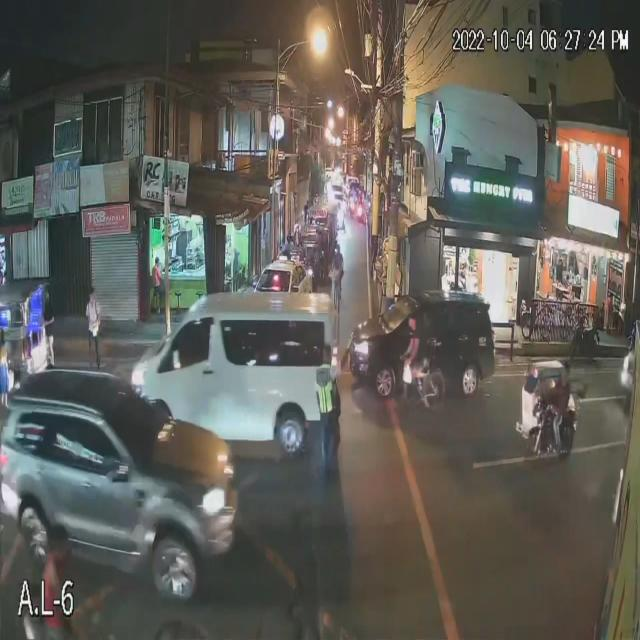Not-Wearing-Helmet: (40, 512, 78, 563)
